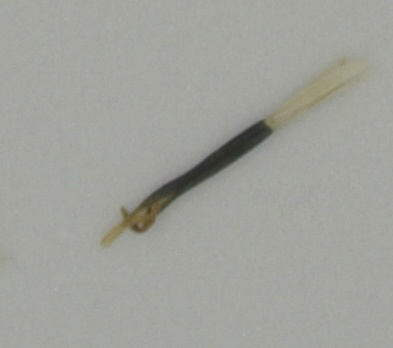เมล็ดงอกแตก: (97, 56, 366, 251)
